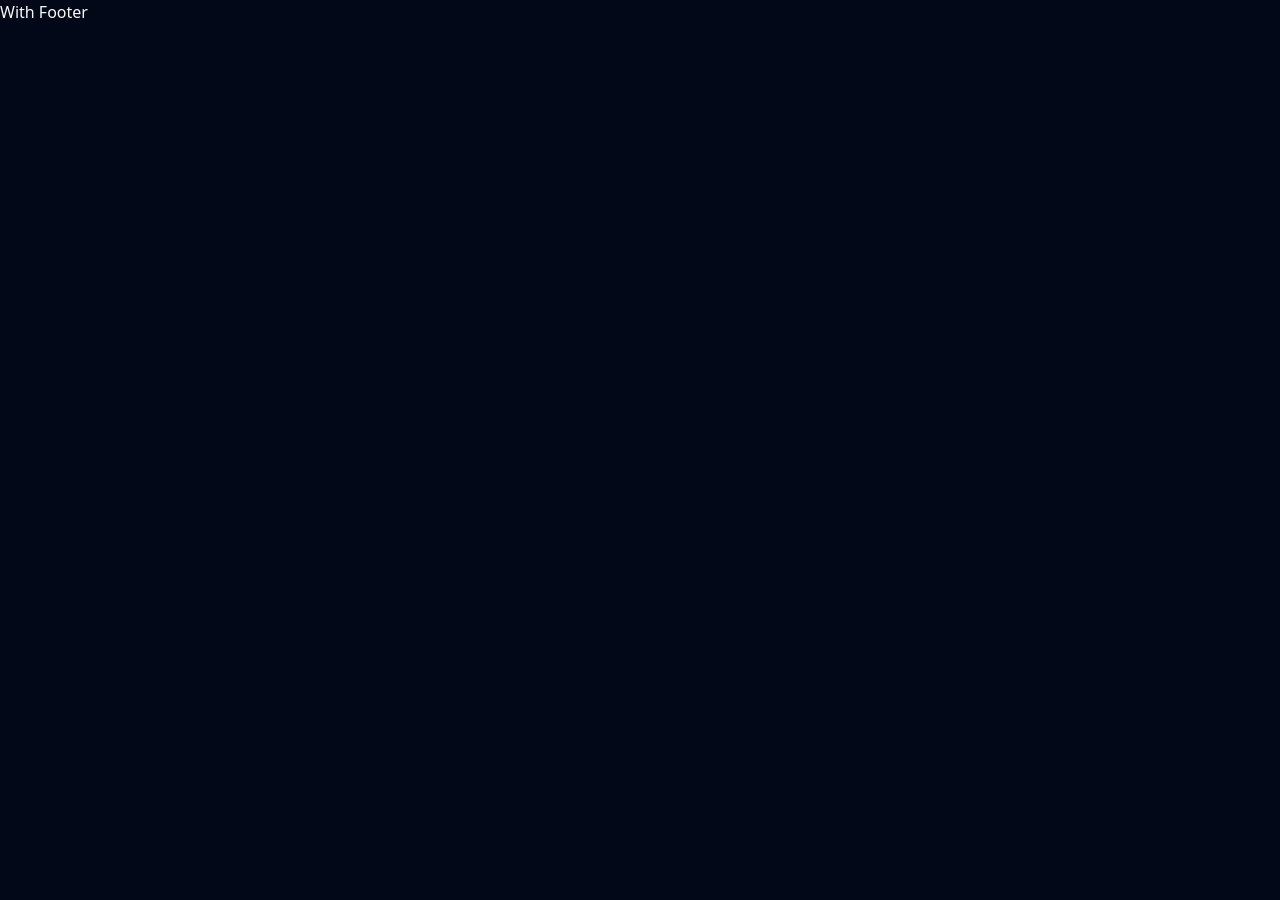
it: Dialog组件系统 › DialogFooter › 应该渲染底部操作按钮
Later steps or results of the test are not shown.
Step 1. Click the button "With Footer" → (44, 12), box [0, 0, 88, 24]
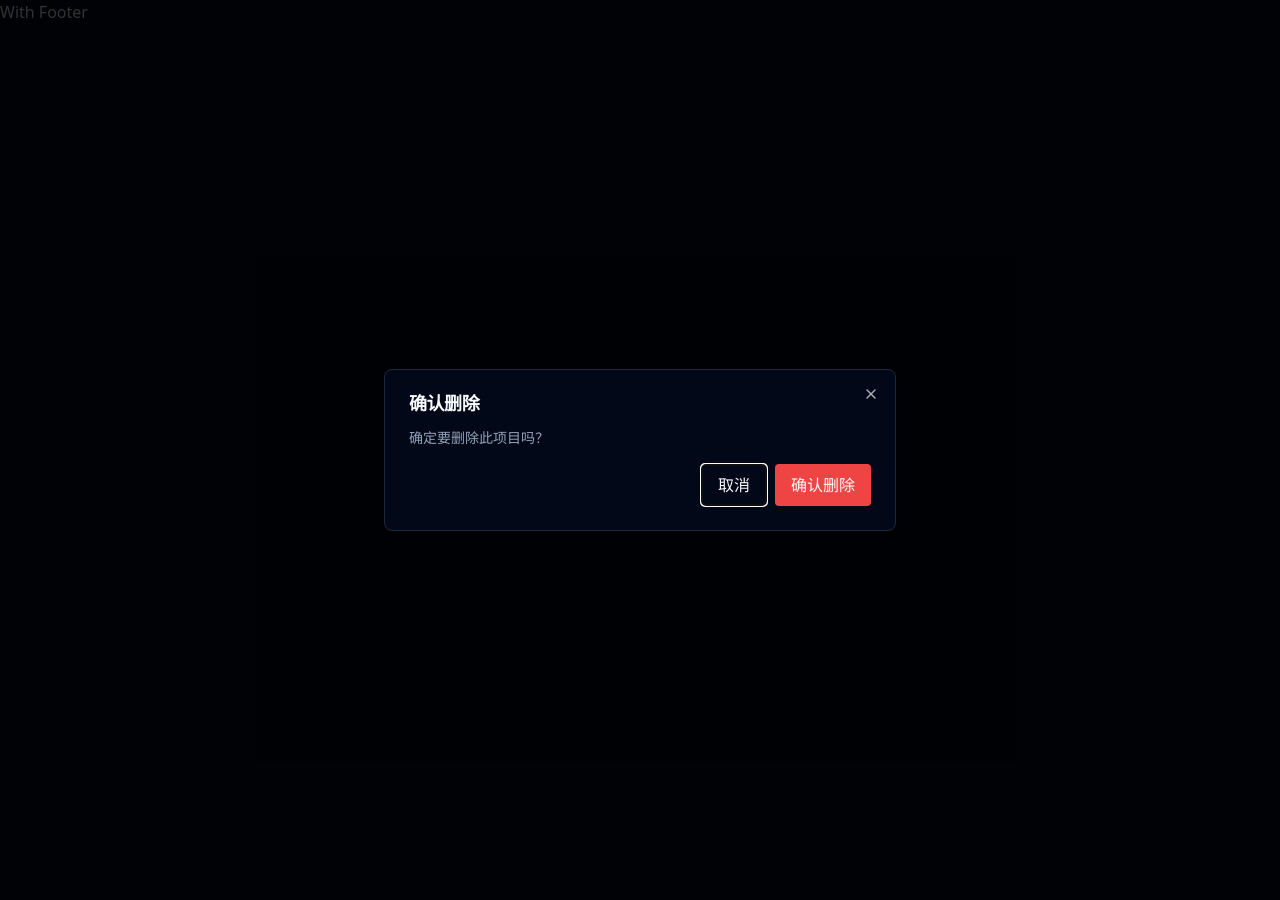
expect the button "取消" is shown: met, box [701, 464, 767, 506]
expect the heading "确认删除" is shown: met, box [409, 391, 479, 415]
